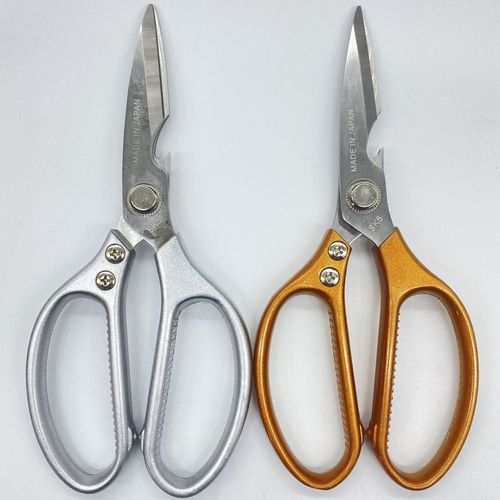scissor: (27, 4, 250, 495), (256, 5, 479, 492)
